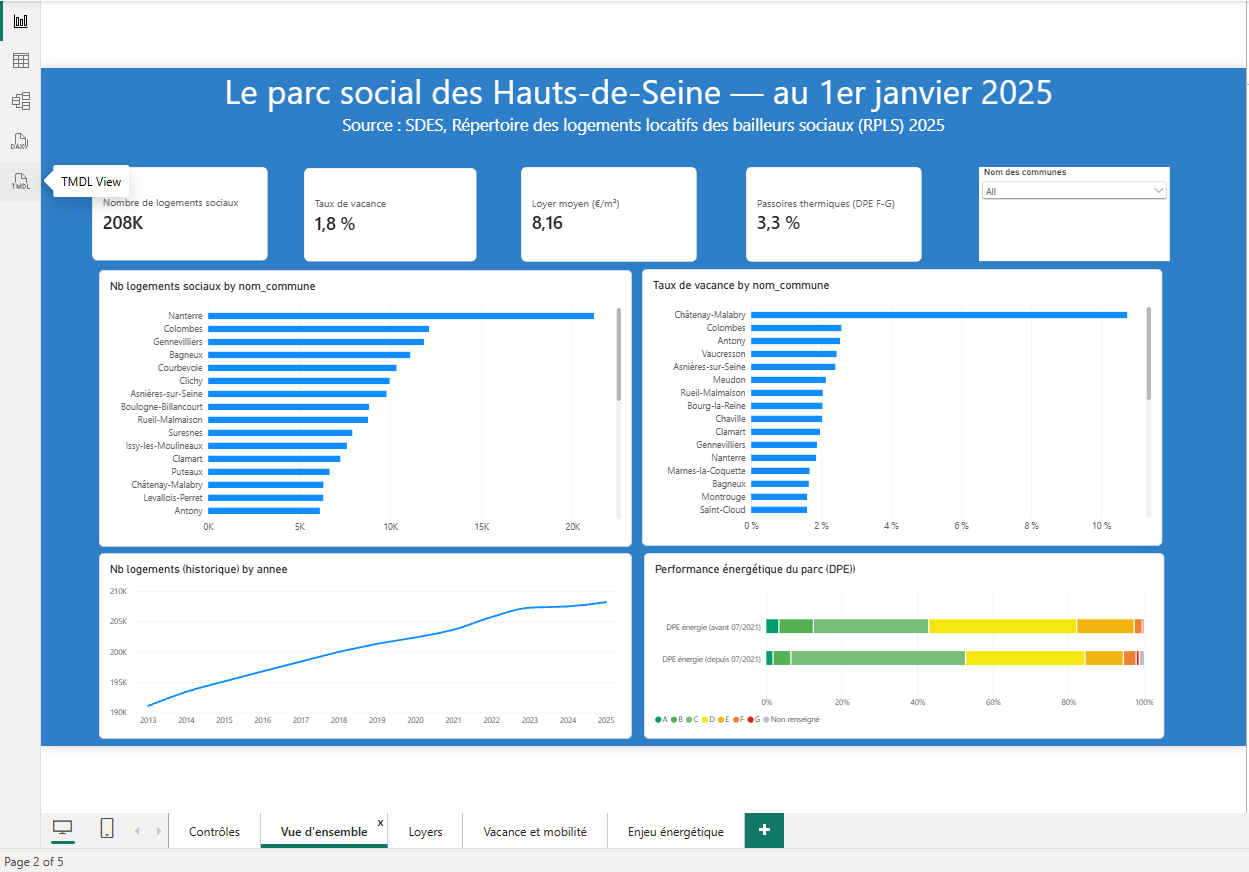

The dashboard page shown, as its layout file describes it:
{"tool":"powerbi","page":{"name":"Vue d'ensemble","canvas":[1920,1080],"ordinal":1},"visuals":[{"type":"textbox","box":[0,0,1920,132.2],"z":0},{"type":"cardVisual","fields":{"Data":["_Mesures.Nb logements sociaux"]},"box":[81.3,157.7,280.4,149.8],"z":1000},{"type":"cardVisual","fields":{"Data":["_Mesures.Taux de vacance"]},"box":[419.1,159.3,275.7,149.8],"z":2000},{"type":"cardVisual","title":"Loyer moyen (€/m²)","fields":{"Data":["_Mesures.Loyer moyen m2"]},"box":[764.8,157.7,280.4,151.4],"z":3000},{"type":"cardVisual","fields":{"Data":["_Mesures.Part passoires thermiques"]},"box":[1123.3,157.7,280.4,151.4],"z":4000},{"type":"slicer","fields":{"Values":["dim_commune.nom_commune"]},"box":[1494.6,157.7,304.3,149.8],"z":5000},{"type":"clusteredBarChart","fields":{"Category":["dim_commune.nom_commune"],"Y":["_Mesures.Nb logements sociaux"]},"box":[91.9,321.3,849.3,441.4],"z":6000},{"type":"clusteredBarChart","fields":{"Category":["dim_commune.nom_commune"],"Y":["_Mesures.Taux de vacance"]},"box":[957.6,320.3,828.5,441.4],"z":7000},{"type":"lineChart","fields":{"Category":["dim_annee.annee"],"Y":["_Mesures.Nb logements (historique)"]},"box":[91.9,772.2,849.3,296.4],"z":8000},{"type":"hundredPercentStackedBarChart","title":"Performance énergétique du parc (DPE))","fields":{"Category":["fact_repartition.theme"],"Series":["fact_repartition.categorie"],"Y":["Sum(fact_repartition.nb_logements)"]},"box":[960.3,772.2,828.5,296.4],"z":9000}]}

Visuals, with their boxes on the page's 1920x1080 design canvas (x1, y1, x2, y2). These are canvas units, not pixel positions in the 1249x872 screenshot, which may show the page scaled, cropped or inside an application window:
textbox: <region>0, 0, 1920, 132</region>
cardVisual - _Mesures.Nb logements sociaux: <region>81, 158, 362, 308</region>
cardVisual - _Mesures.Taux de vacance: <region>419, 159, 695, 309</region>
"Loyer moyen (€/m²)" cardVisual: <region>765, 158, 1045, 309</region>
cardVisual - _Mesures.Part passoires thermiques: <region>1123, 158, 1404, 309</region>
slicer - dim_commune.nom_commune: <region>1495, 158, 1799, 308</region>
clusteredBarChart - dim_commune.nom_commune x _Mesures.Nb logements sociaux: <region>92, 321, 941, 763</region>
clusteredBarChart - dim_commune.nom_commune x _Mesures.Taux de vacance: <region>958, 320, 1786, 762</region>
lineChart - dim_annee.annee x _Mesures.Nb logements (historique): <region>92, 772, 941, 1069</region>
"Performance énergétique du parc (DPE))" hundredPercentStackedBarChart: <region>960, 772, 1789, 1069</region>
